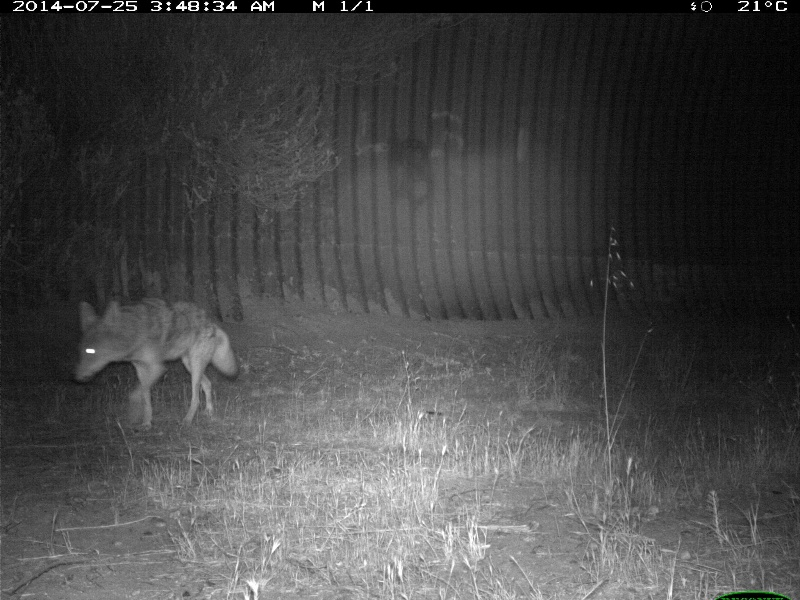coyote: (71, 292, 239, 428)
